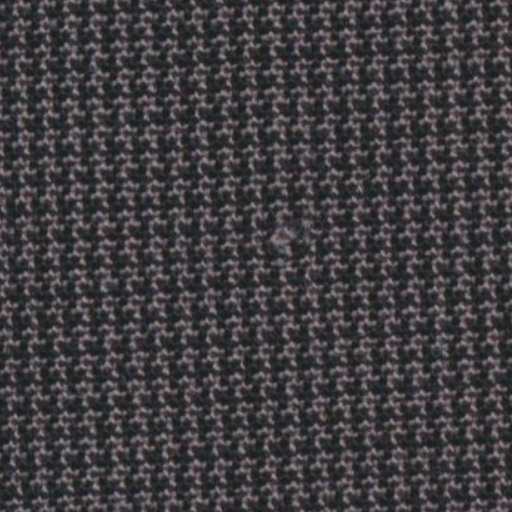PoDong: (252, 206, 312, 262)
